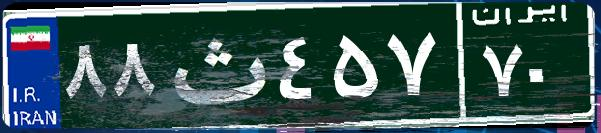0: (525, 38, 570, 115)
4: (273, 28, 330, 110)
5: (330, 28, 385, 110)
7: (385, 28, 445, 110), (475, 38, 525, 113)
8: (57, 26, 110, 107), (110, 28, 158, 105)
ث: (158, 15, 273, 115)
